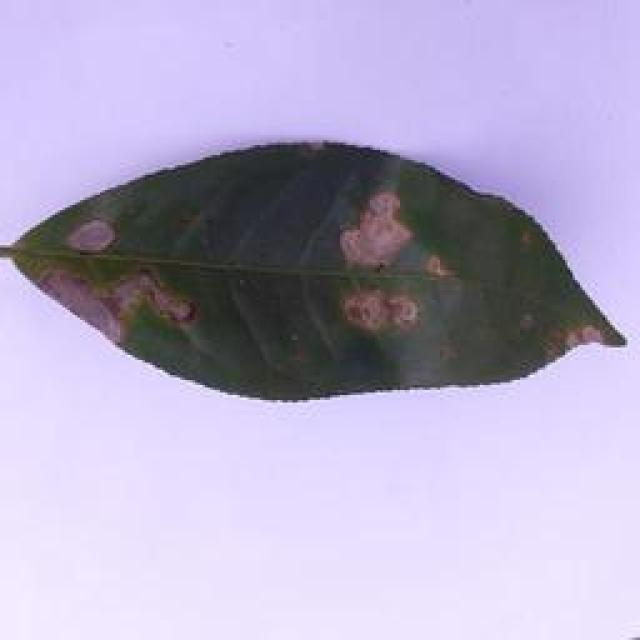Gray Blight: (0, 126, 636, 409)
